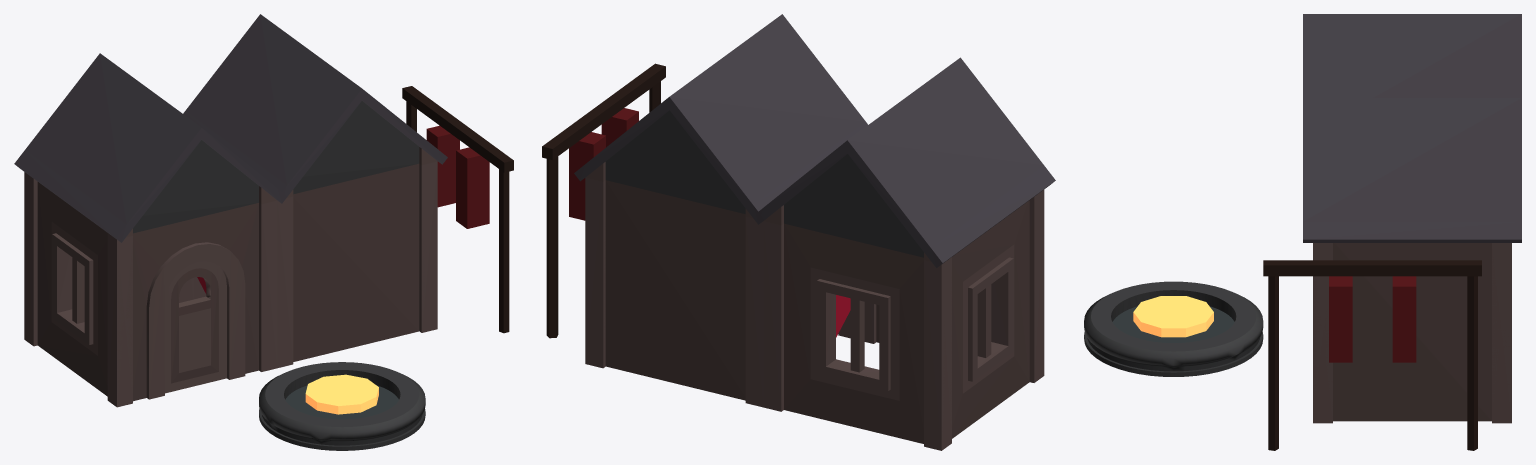
Rendered from slaughter_l1.glb.
3 views of the same model, side by side, from view 1: azimuth 30°, elevation 25°; view 2: azimuth 150°, elevation 25°; view 3: azimuth 270°, elevation 25° (orthographic). The views are drawn at different scales.
Visible parts, largest first — view 1: slaughter_l1; view 2: slaughter_l1; view 3: slaughter_l1.
Boxes of the visible parts, x1,y1,x2,y2 form: slaughter_l1: (14, 14, 513, 450); slaughter_l1: (542, 14, 1055, 450); slaughter_l1: (1084, 14, 1521, 450).
Size of the model in its own units: 4.57 by 2.98 by 4.18.
